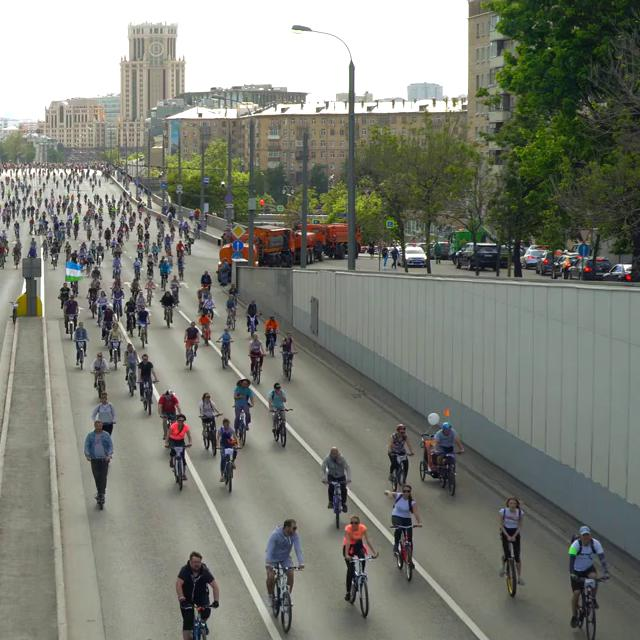bicycle: (265, 563, 305, 633), (569, 574, 610, 639), (344, 552, 379, 618), (390, 524, 422, 582), (430, 450, 464, 496), (498, 535, 521, 598), (321, 479, 349, 528), (165, 443, 191, 490), (387, 451, 413, 492), (218, 445, 239, 493), (268, 407, 293, 447), (199, 412, 222, 455), (231, 403, 252, 447), (137, 379, 158, 415), (158, 412, 179, 448), (215, 340, 234, 369), (247, 353, 264, 384), (90, 369, 108, 398), (280, 350, 296, 381), (106, 339, 122, 370), (183, 340, 198, 370), (124, 362, 137, 396), (73, 340, 87, 369), (137, 320, 149, 347), (265, 332, 277, 357)
